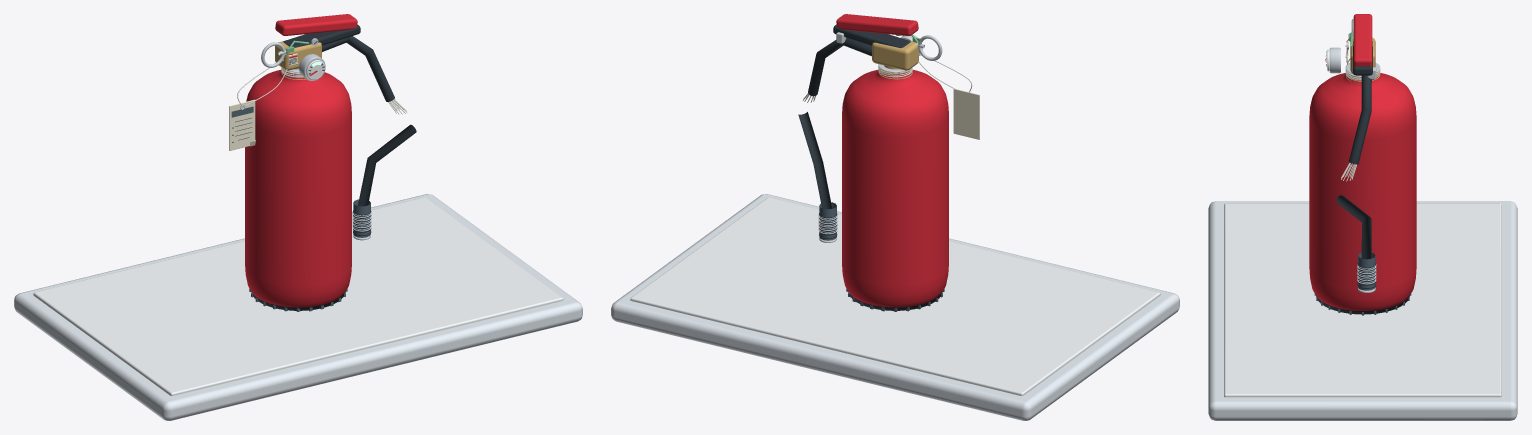
Rendered from fire-damaged.glb.
The picture shows the model from 3 angles, left to right: view 1: azimuth 30°, elevation 25°; view 2: azimuth 150°, elevation 25°; view 3: azimuth 270°, elevation 25°; orthographic projection.
Visible parts, largest first — view 1: fire-damaged; view 2: fire-damaged; view 3: fire-damaged.
Part boxes in pixels (box(x1,y1,x2,y2)): fire-damaged: box(14, 14, 582, 420); fire-damaged: box(611, 14, 1179, 420); fire-damaged: box(1208, 14, 1517, 420).
Bounding box in the file's own units: 0.77 × 0.5218 × 0.49.
